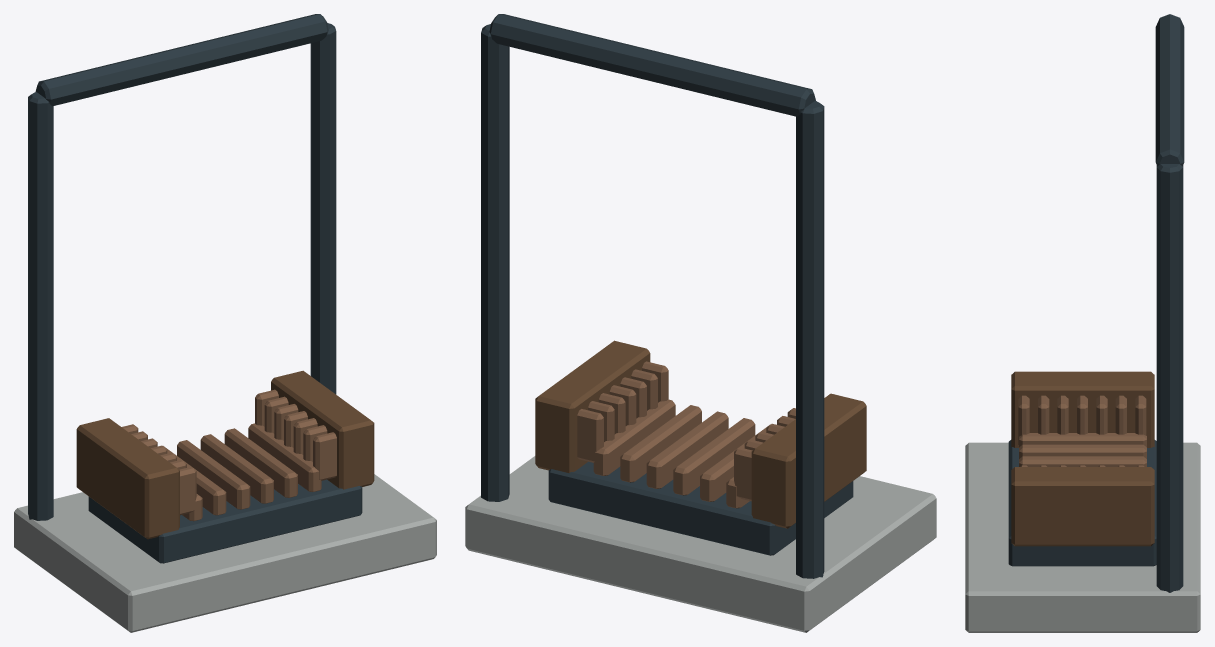
Rendered from b20_snow_boot_brush_station.glb.
The picture shows the model from 3 angles, left to right: view 1: azimuth 30°, elevation 25°; view 2: azimuth 150°, elevation 25°; view 3: azimuth 270°, elevation 25°; orthographic projection. The views are drawn at different scales.
Parts seen in each view (by area): view 1: b20_snow_boot_brush_station; view 2: b20_snow_boot_brush_station; view 3: b20_snow_boot_brush_station.
Boxes of the visible parts, box(x1,y1,x2,y2) form: b20_snow_boot_brush_station: box(14, 14, 436, 632); b20_snow_boot_brush_station: box(465, 14, 936, 632); b20_snow_boot_brush_station: box(965, 14, 1200, 632).
Bounding box in the file's own units: 0.7 × 1.03 × 0.46.
